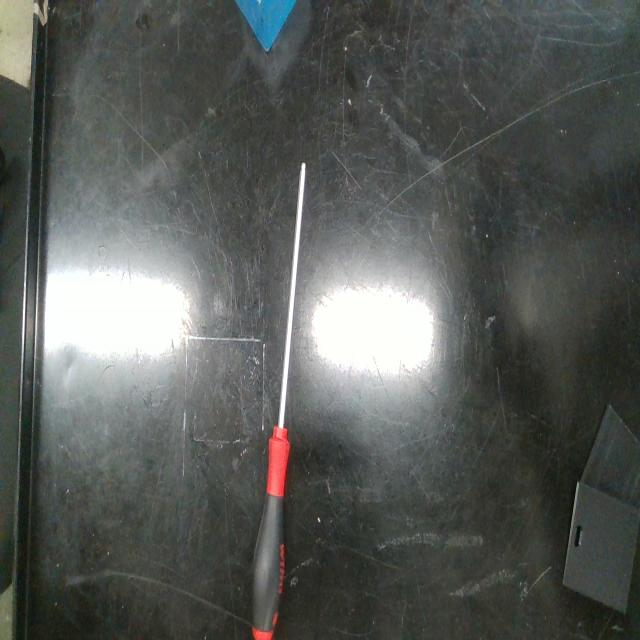Screwdriver: (252, 162, 305, 640)
